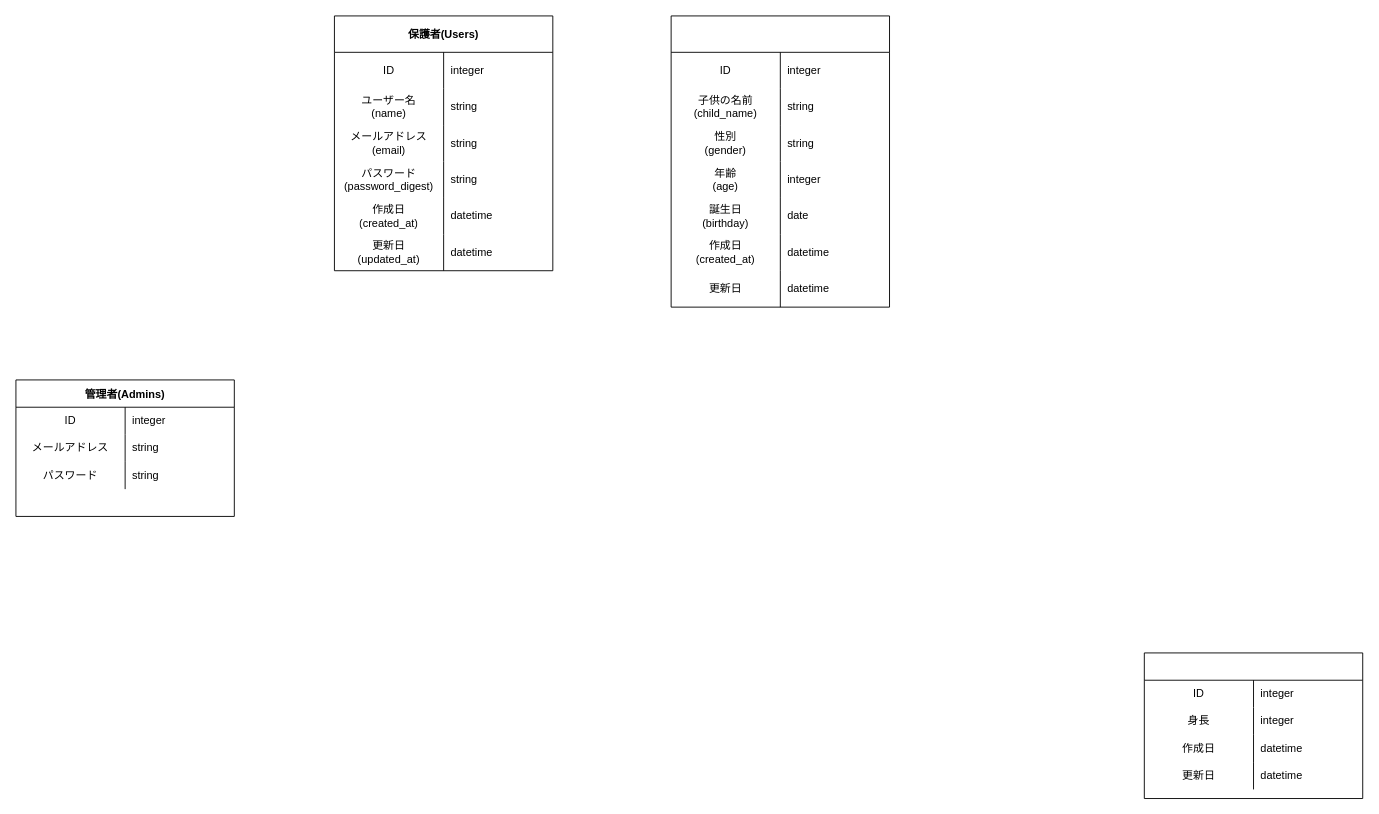
Some shapes in this 1379 by 814 pixel diagram are drawn without their labels. The shapes that lost their labels are listed below. From the top down, each one's box as (x1, y1, x2, y2) in pixels, then its label:
(670, 15, 890, 307): 子供(Children)
(1143, 652, 1363, 799): 身長(Heights)
